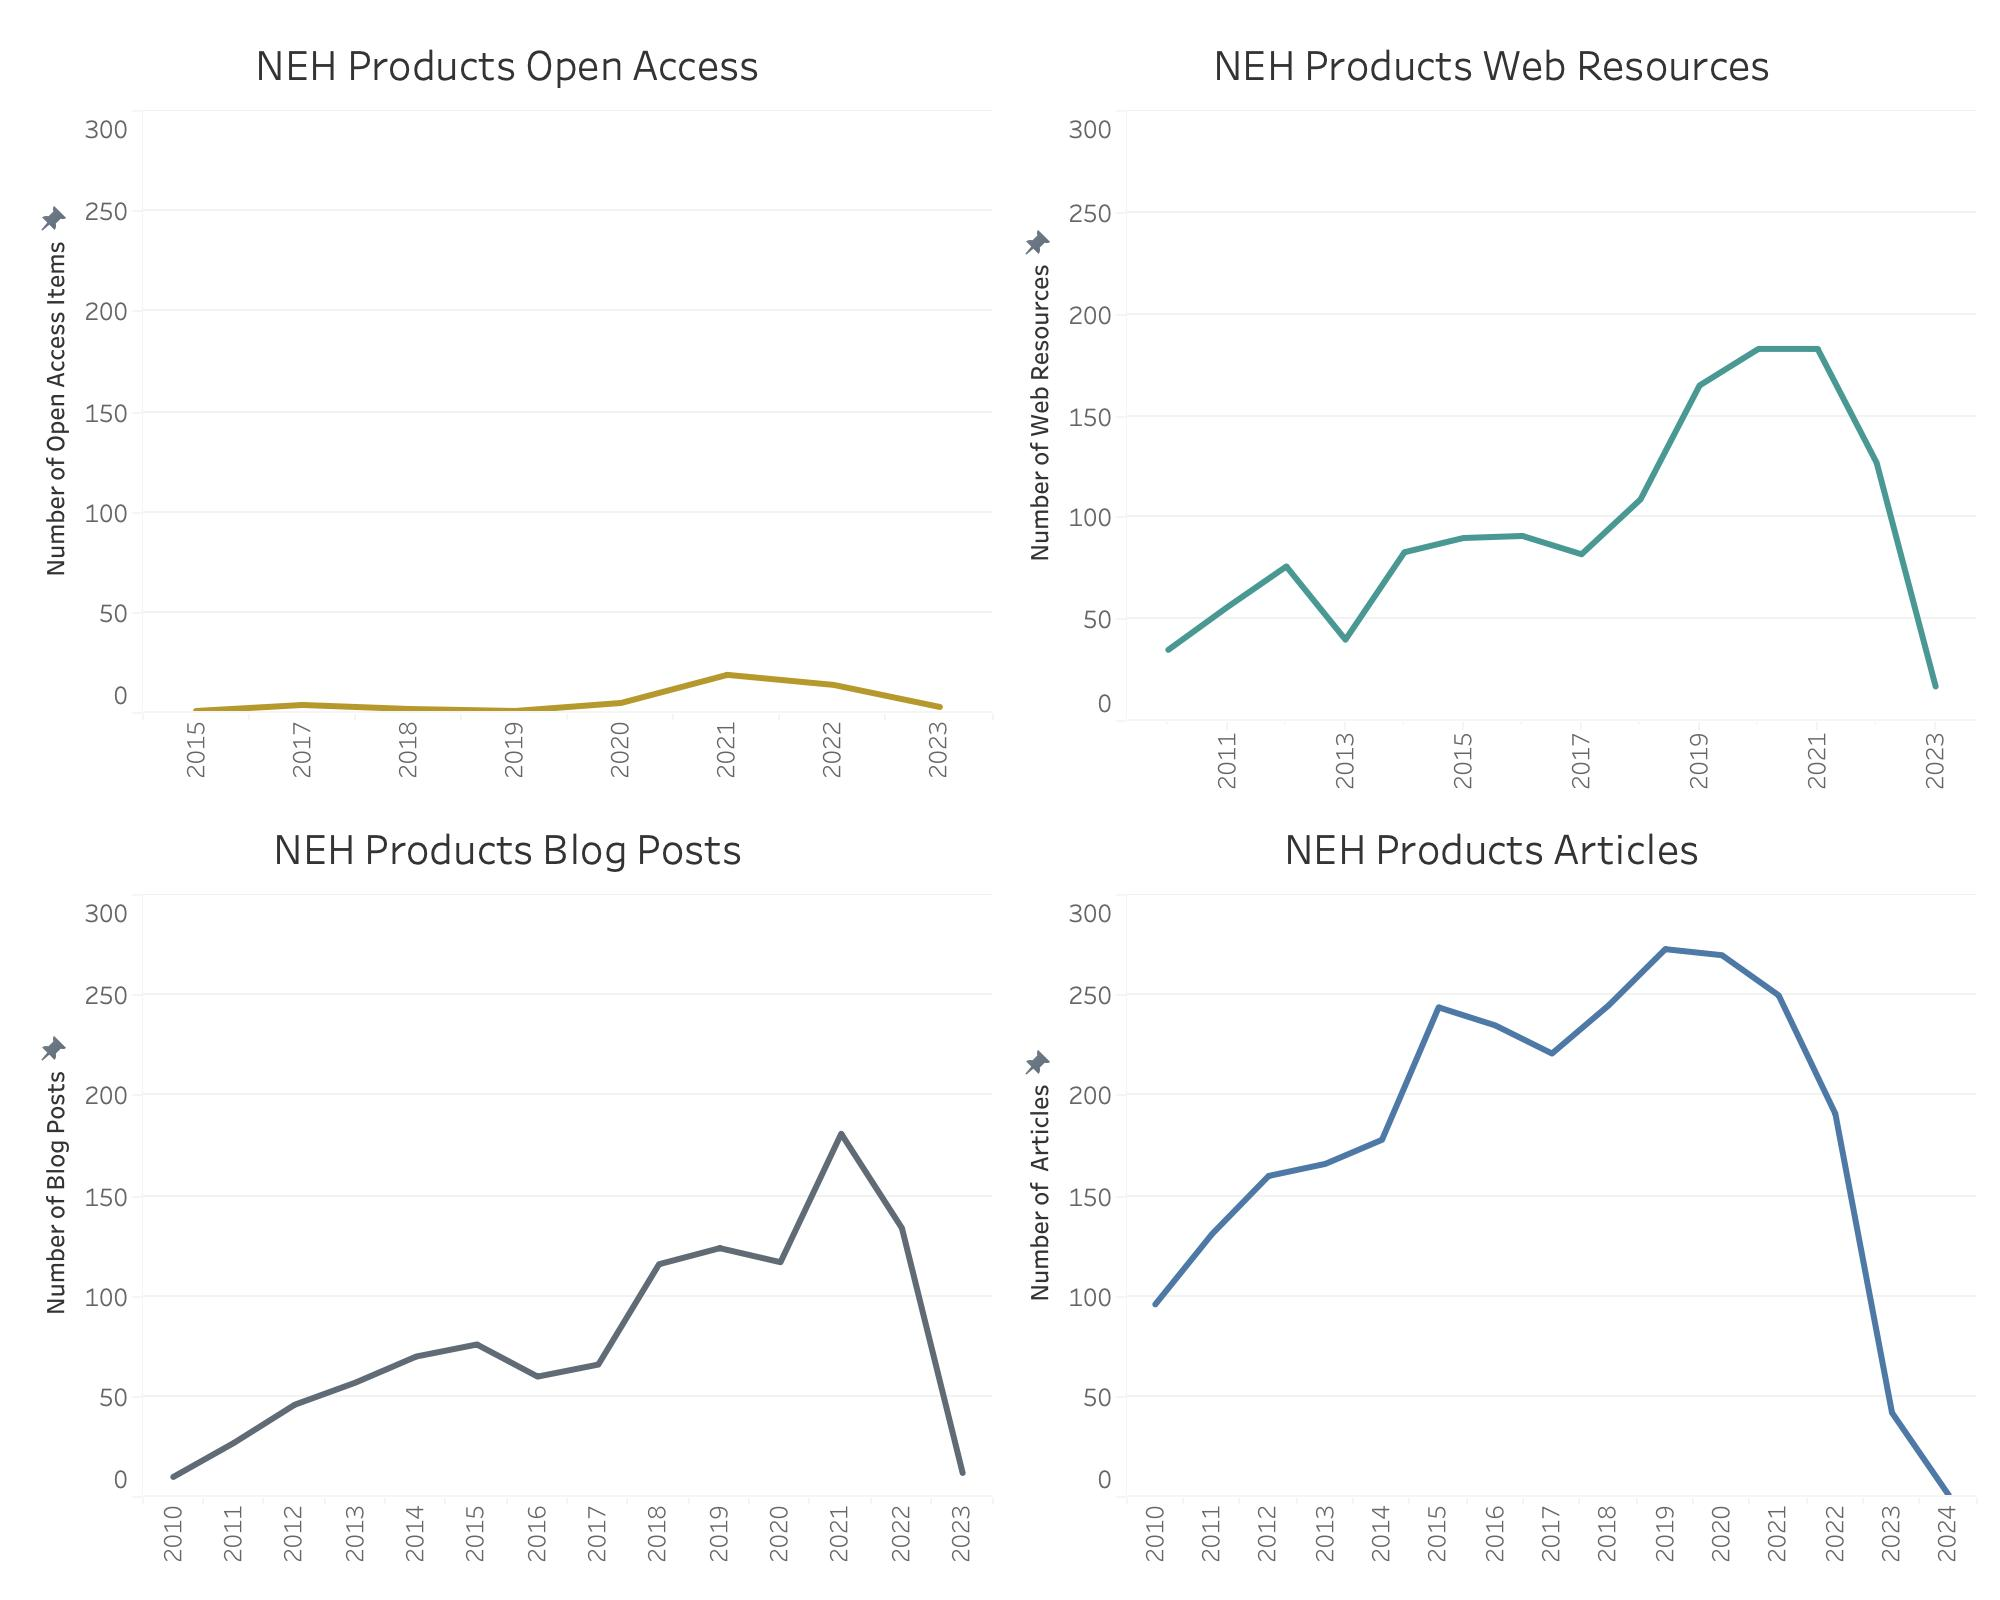

Layout of this report page (visuals, bound fields, positions):
{"tool":"tableau","page":{"name":"Small Multiples for Product Type","canvas":[1000,800],"ordinal":2},"visuals":[{"type":"worksheet","title":"NEH Products Open Access","mark":"Automatic","rows":["NEH_OpenAccessItems.csv_BC579A7CE9B1418BA59D9BCAA7A04FA0"],"cols":["F22"],"box":[8,8,492,392]},{"type":"worksheet","title":"NEH Products Web Resources","mark":"Line","rows":["NEH_WebResources.csv_CEFE4EFCD40A4DDCBA712AB78DB3313C"],"cols":["F10"],"box":[500,8,492,392]},{"type":"worksheet","title":"NEH Products Blog Posts","mark":"Automatic","rows":["NEH_BlogPosts.csv_D6D149551B534C39B99E799D382F4FF1"],"cols":["F6 (NEH_BlogPosts.csv)"],"box":[8,400,492,392]},{"type":"worksheet","title":"NEH Products Articles","mark":"Automatic","rows":["NEH_Articles.csv_23F40BAC84924AD4AA1ABFF68FE9B650"],"cols":["F14 (NEH_Articles.csv)"],"box":[500,400,492,392]}]}

Visuals, with their boxes in screenshot pixels (x1, y1, x2, y2), scaled from the page's 1000x800 canvas onto the 2000x1600 screenshot:
"NEH Products Open Access" worksheet: Rect(16, 16, 1000, 800)
"NEH Products Web Resources" worksheet (Line marks): Rect(1000, 16, 1984, 800)
"NEH Products Blog Posts" worksheet: Rect(16, 800, 1000, 1584)
"NEH Products Articles" worksheet: Rect(1000, 800, 1984, 1584)
